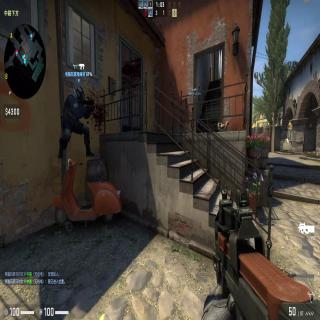CT-Body: (57, 86, 97, 159)
CT-Head: (75, 86, 86, 104)
